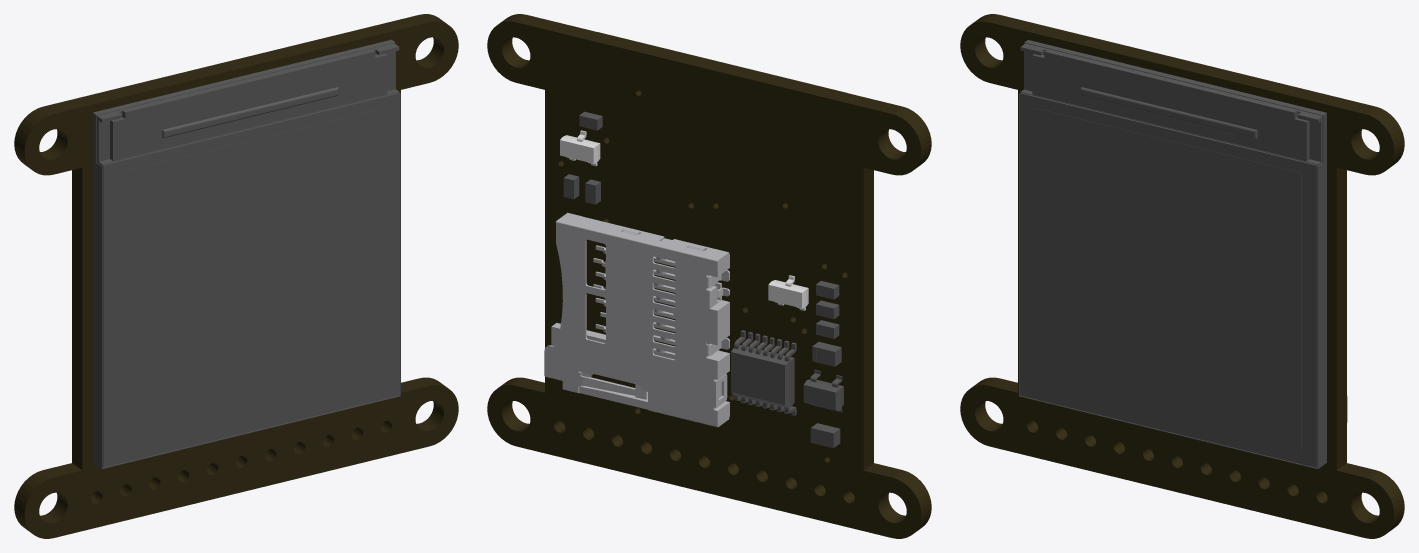
Rendered from adafruit-st7789-13-tft.glb.
3 views of the same model, side by side, from view 1: azimuth 30°, elevation 25°; view 2: azimuth 150°, elevation 25°; view 3: azimuth 330°, elevation 25° (orthographic).
Visible parts, largest first — view 1: adafruit-st7789-13-tft; view 2: adafruit-st7789-13-tft; view 3: adafruit-st7789-13-tft.
Boxes of the visible parts, <box> form: adafruit-st7789-13-tft: <box>14,14,458,538</box>; adafruit-st7789-13-tft: <box>487,14,931,538</box>; adafruit-st7789-13-tft: <box>960,14,1404,538</box>.
Size of the model in its own units: 38.1 by 35.56 by 4.91.
